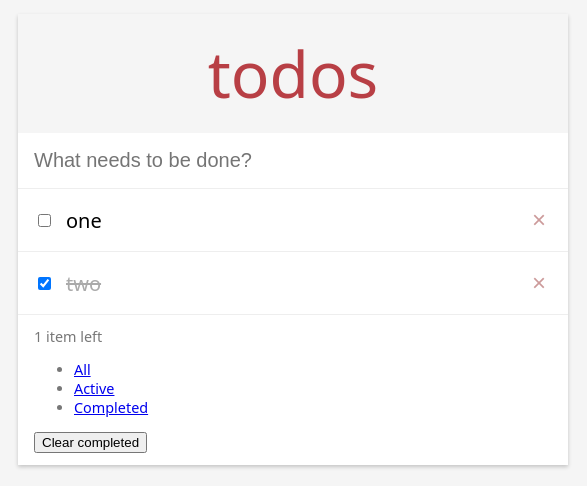
filter links show only matching todos and highlight selected
Expected: the text "two" is shown, left=66, top=270, right=101, bottom=296
Click the link "Active" at (94, 389), box left=74, top=379, right=114, bottom=398
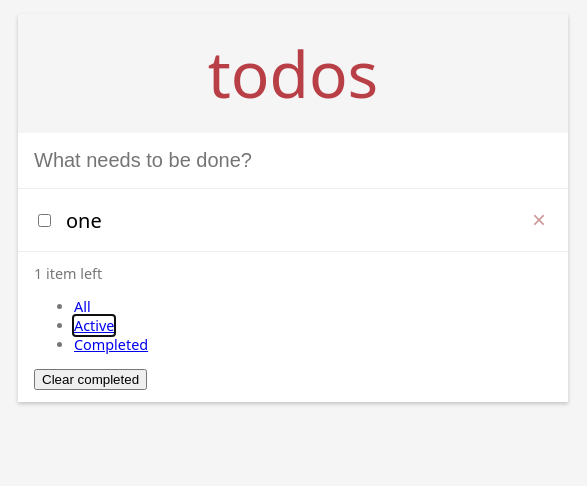
Expected: the text "one" is shown, left=66, top=206, right=102, bottom=234
Now the text "two" is gone
Click the link "Completed" at (111, 345), box left=74, top=335, right=148, bottom=354
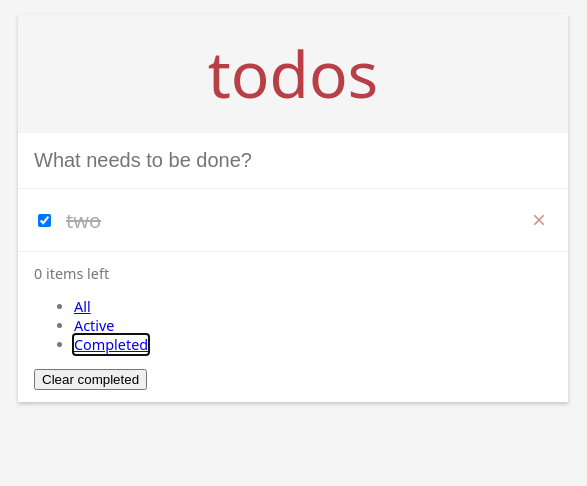
Now the text "two" is shown, box left=66, top=206, right=101, bottom=234
